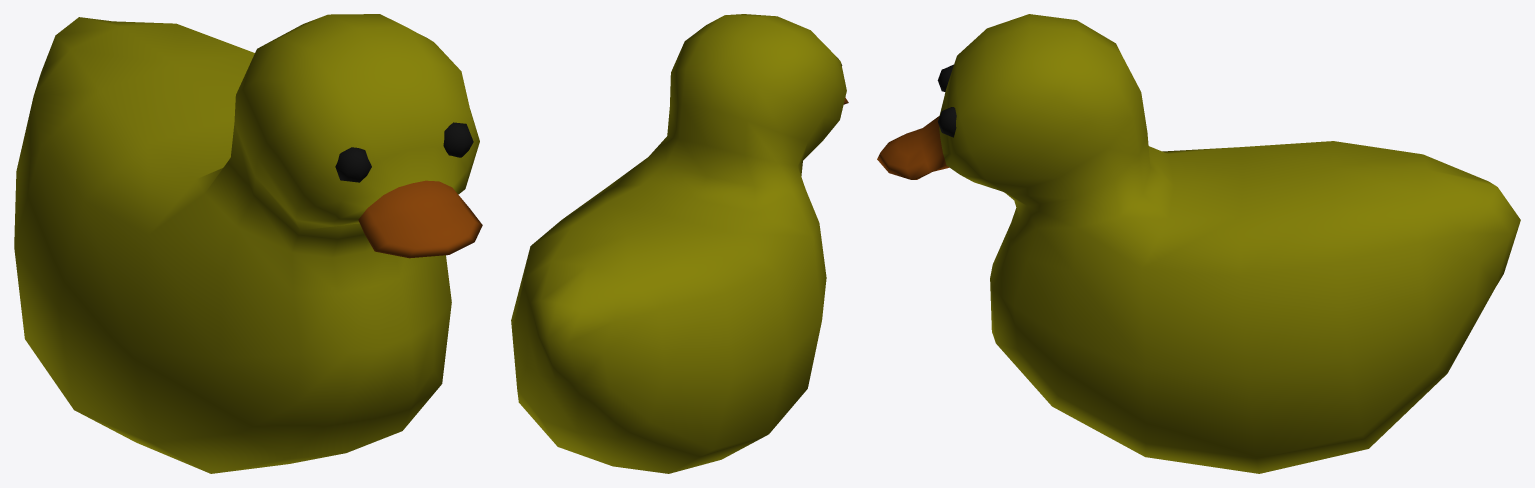
Rendered from sm_duck.fbx.
3 views of the same model, side by side, from view 1: azimuth 30°, elevation 25°; view 2: azimuth 150°, elevation 25°; view 3: azimuth 270°, elevation 25° (orthographic). The views are drawn at different scales.
Visible parts, largest first — view 1: body_low (×2), eyes_low; view 2: body_low; view 3: body_low (×2), eyes_low.
Part boxes in pixels (box(x1,y1,x2,y2)): body_low (×2): box(14, 14, 482, 473); eyes_low: box(335, 122, 473, 182); body_low: box(511, 14, 846, 473); body_low (×2): box(877, 14, 1520, 473); eyes_low: box(937, 64, 956, 137).
Size of the model in its own units: 1.32 by 1.86 by 2.58.
